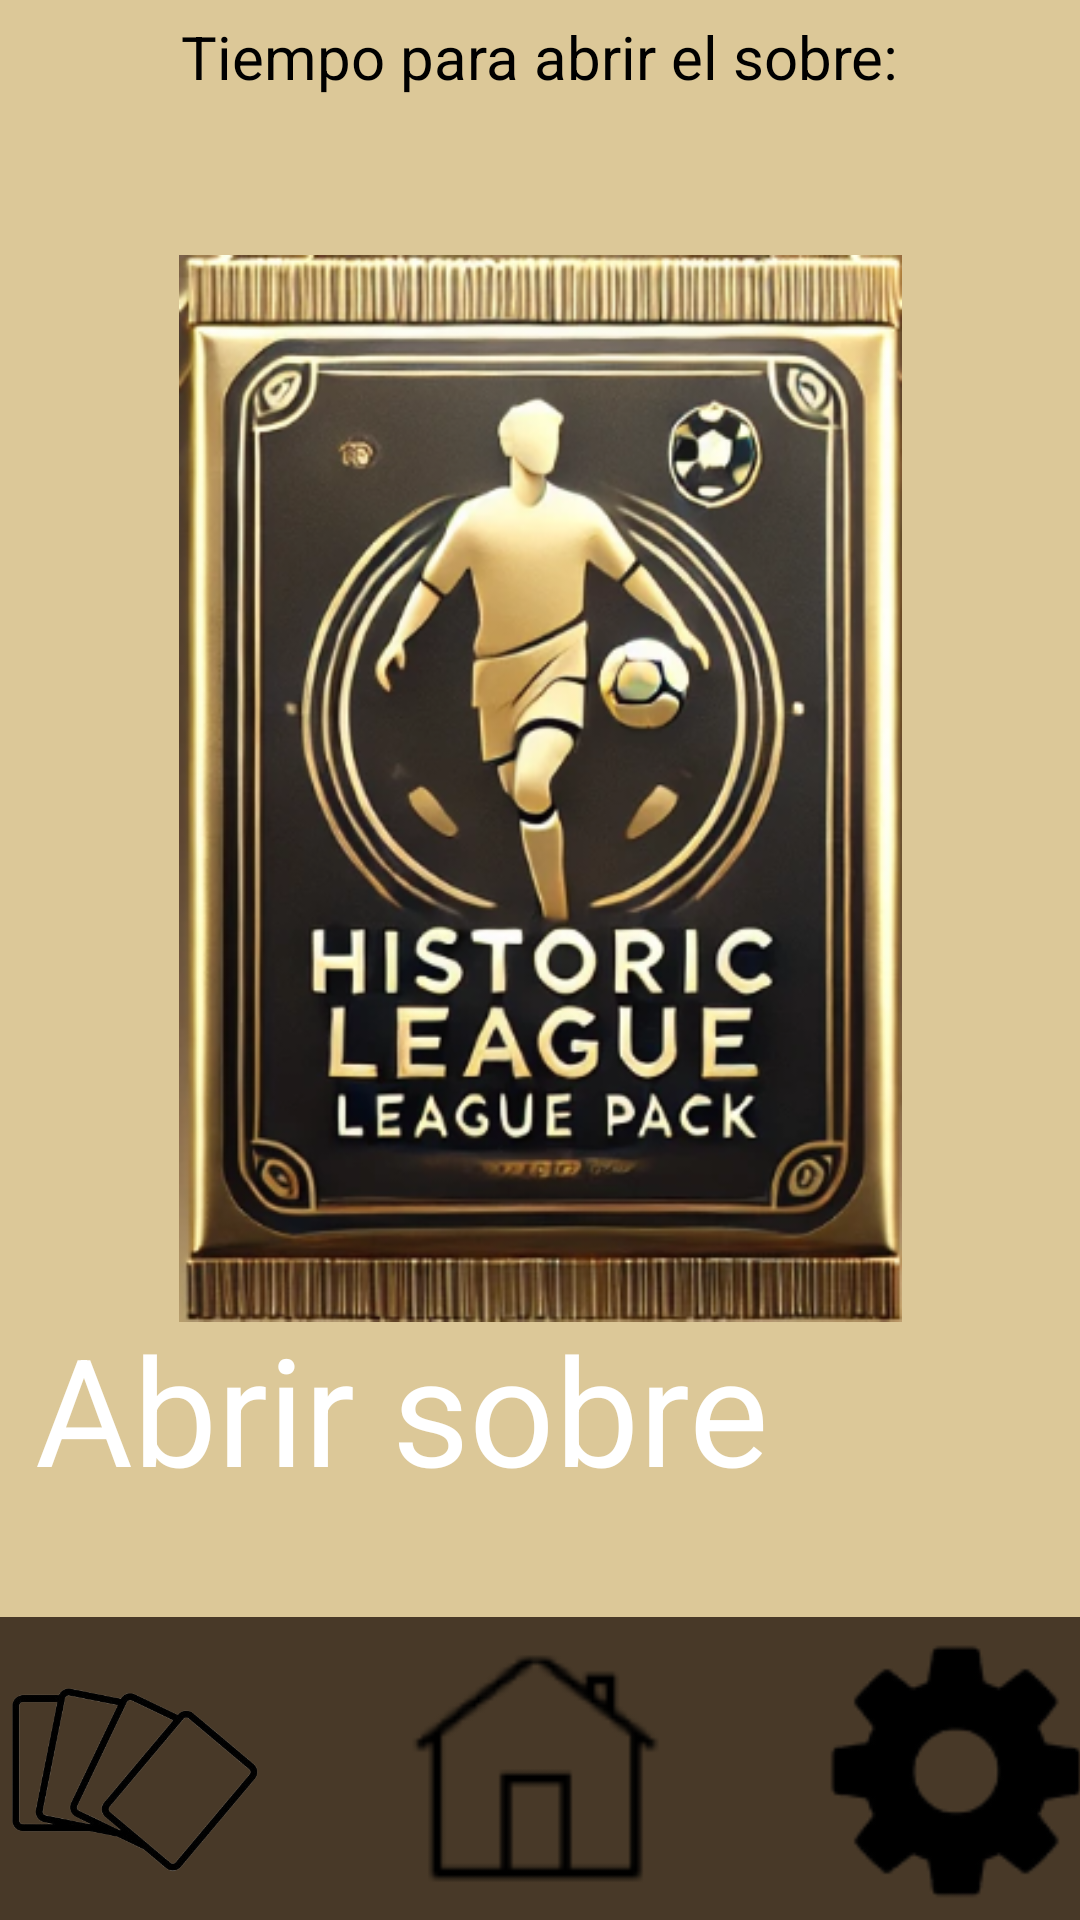

Icon bounding boxes for this 1080 × 1920 phone screenshot, format (x1, y1, x2, y2):
home: (416, 1657, 655, 1879)
